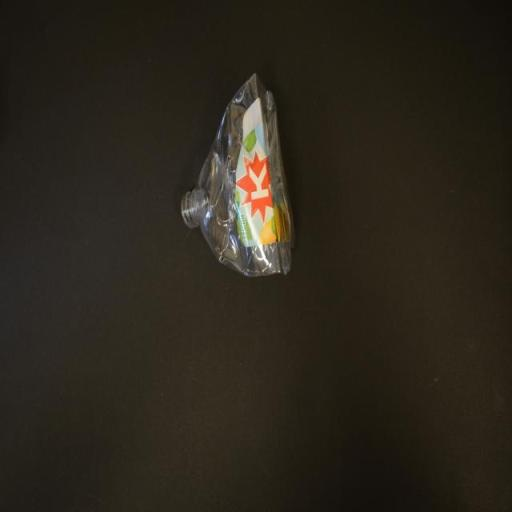plastic: (180, 72, 294, 279)
